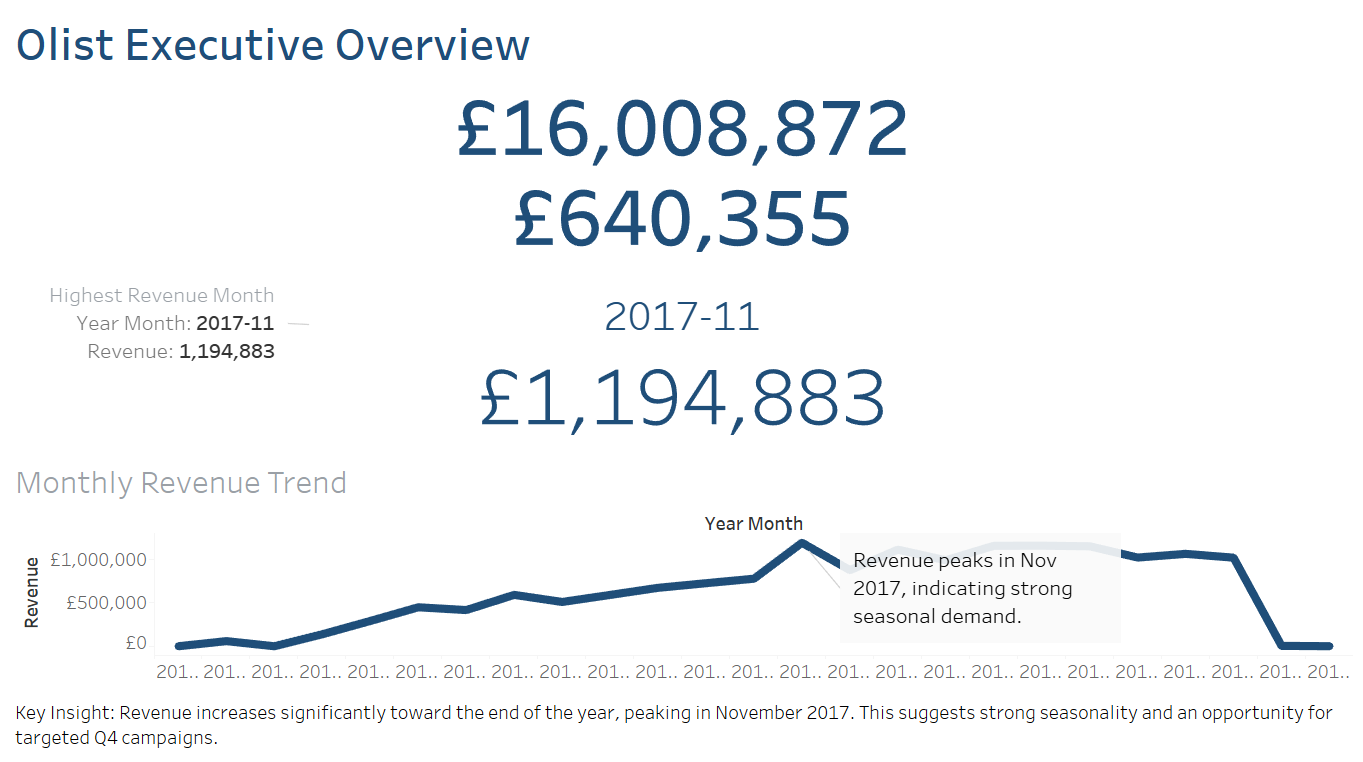

What the dashboard file says about the page in this screenshot:
{"tool":"tableau","page":{"name":"Dashboard 1","canvas":[1366,768],"ordinal":0},"visuals":[{"type":"text","box":[8,8,1350,68]},{"type":"worksheet","title":"KPI_Total_Revenue","mark":"Automatic","box":[8,76,1350,96]},{"type":"worksheet","title":"KPI_Avg_Monthly_Revenue","mark":"Automatic","box":[8,172,1350,105]},{"type":"worksheet","title":"KPI_Highest_Revenue_Month","mark":"Automatic","box":[8,277,1350,192]},{"type":"worksheet","title":"KPI_Revenue_Trend","mark":"Line","rows":["revenue"],"cols":["year_month"],"box":[8,469,1350,219]},{"type":"text","box":[8,688,1350,72]}]}

Visuals, with their boxes in screenshot pixels (x1, y1, x2, y2), scaled from the page's 1366x768 canvas onto the 1363x762 screenshot:
text: (8, 8, 1355, 75)
"KPI_Total_Revenue" worksheet: (8, 75, 1355, 171)
"KPI_Avg_Monthly_Revenue" worksheet: (8, 171, 1355, 275)
"KPI_Highest_Revenue_Month" worksheet: (8, 275, 1355, 465)
"KPI_Revenue_Trend" worksheet (Line marks): (8, 465, 1355, 683)
text: (8, 683, 1355, 754)
